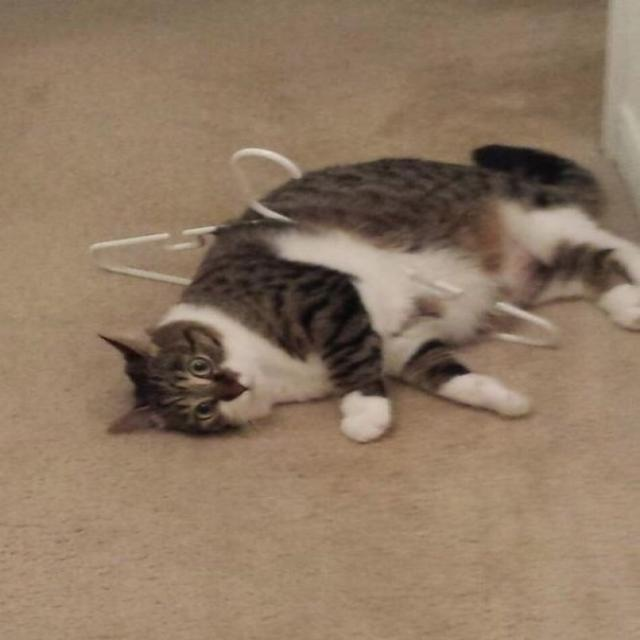cat: (77, 152, 640, 442)
